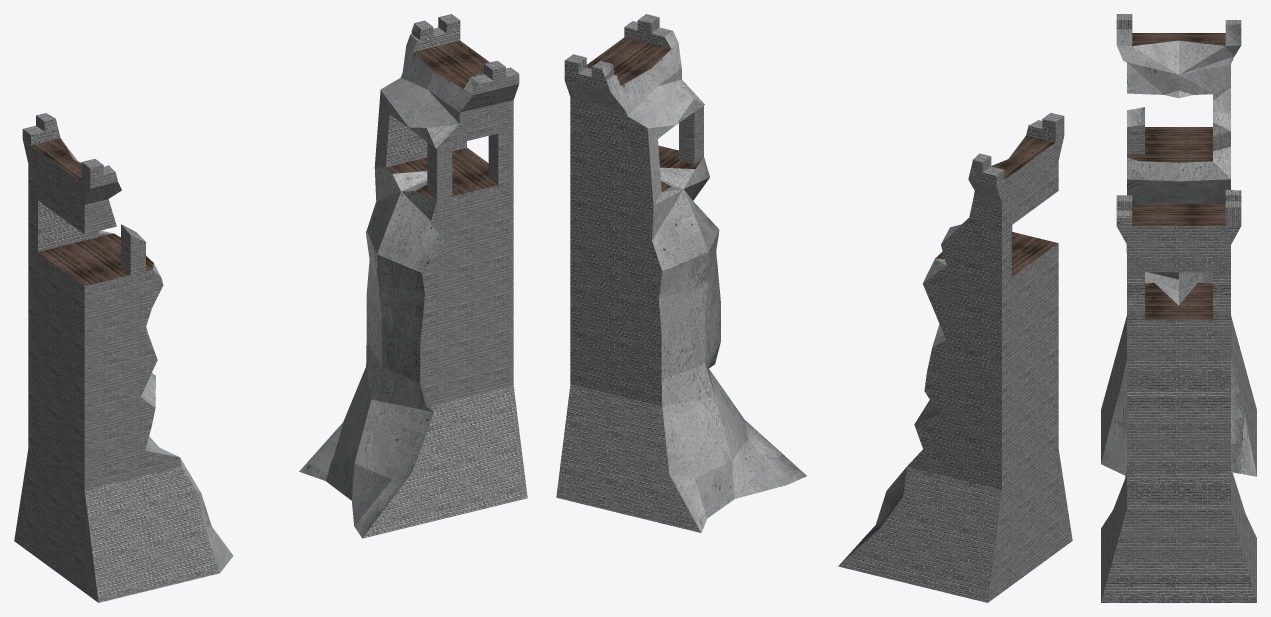
The model's file is TallWalldestroyed.fbx.
3 views of the same model, side by side, from view 1: azimuth 30°, elevation 25°; view 2: azimuth 150°, elevation 25°; view 3: azimuth 270°, elevation 25° (orthographic). The views are drawn at different scales.
Parts seen in each view (by area): view 1: TallWalldestroyed; view 2: TallWalldestroyed; view 3: TallWalldestroyed.
Boxes of the visible parts, x1,y1,x2,y2 form: TallWalldestroyed: (14,14,527,602); TallWalldestroyed: (556,14,1072,602); TallWalldestroyed: (1101,14,1256,602).
Size of the model in its own units: 2200 by 2100 by 750.
